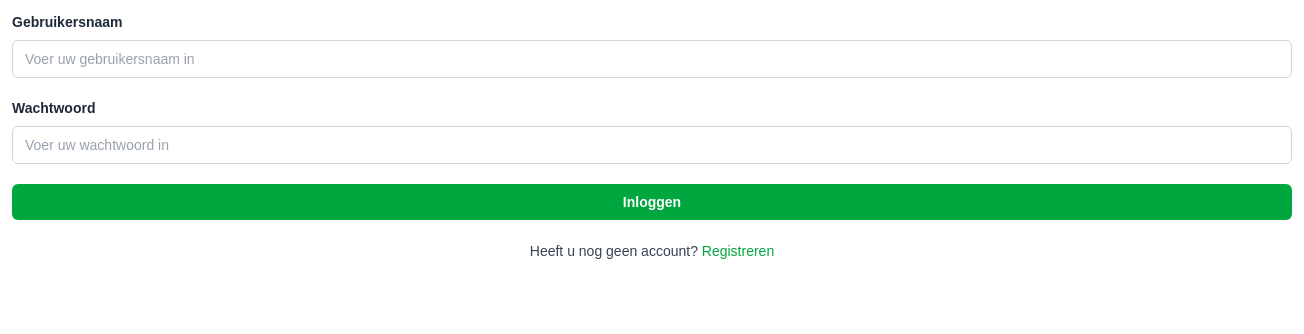
Test: LoginForm › shows connection error message when fetch throws
Type "user" into the field with test id "username-input" at (652,59), box [12,40,1292,78]
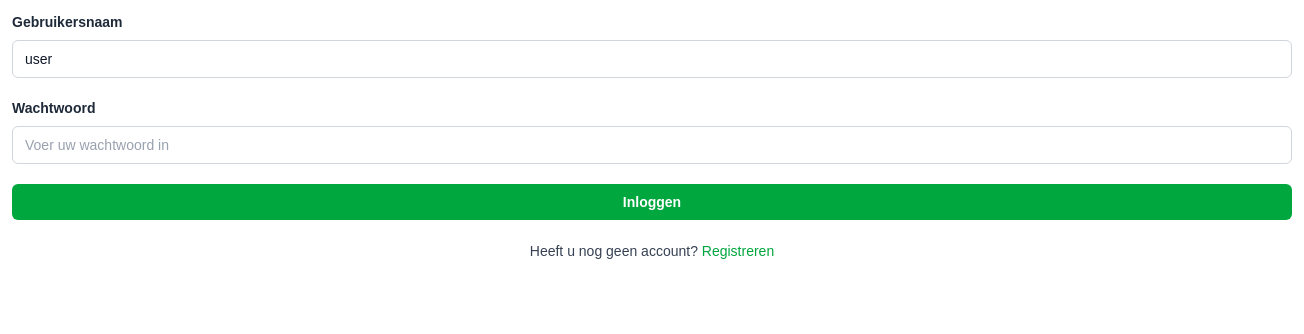
Type "pass" into the password field with test id "password-input" at (652,145), box [12,126,1292,164]
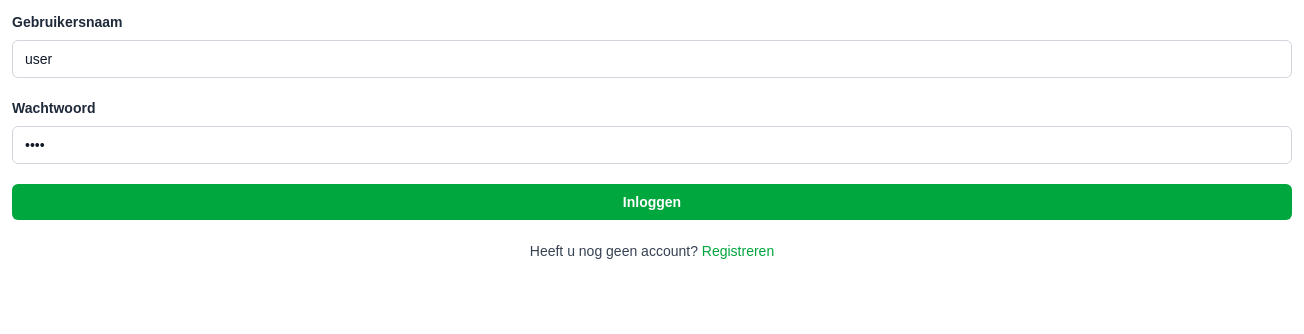
Click the button with test id "login-button" at (652,202), box [12,184,1292,220]
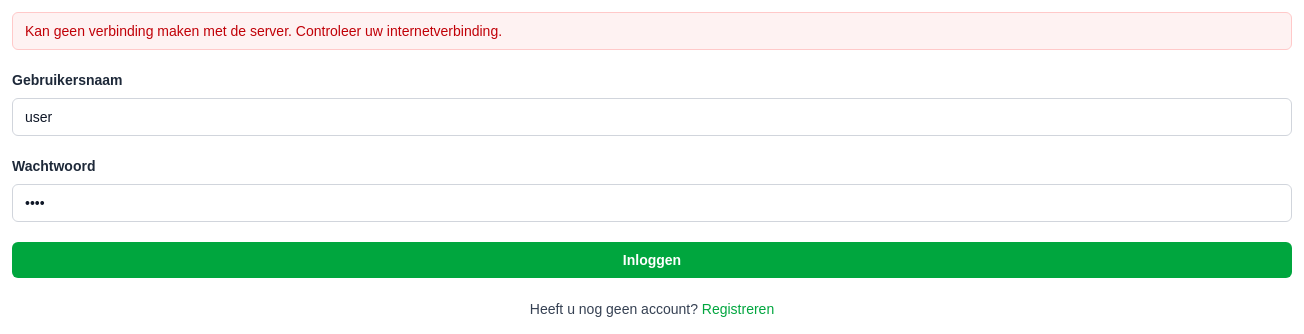
Check: the message "Kan geen verbinding maken met de server. Controleer uw internetverbinding." is shown, box [12,12,1292,50]
Check: the message with test id "login-error" shows "verbinding", box [25,23,502,39]
